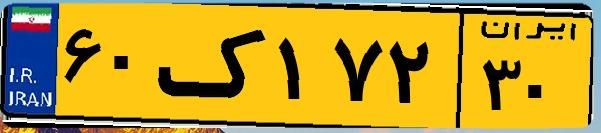0: (525, 38, 570, 115), (110, 28, 158, 98)
1: (270, 28, 330, 110)
2: (385, 28, 445, 110)
3: (475, 38, 525, 113)
6: (57, 26, 110, 100)
7: (330, 28, 385, 110)
ک: (158, 12, 270, 120)
